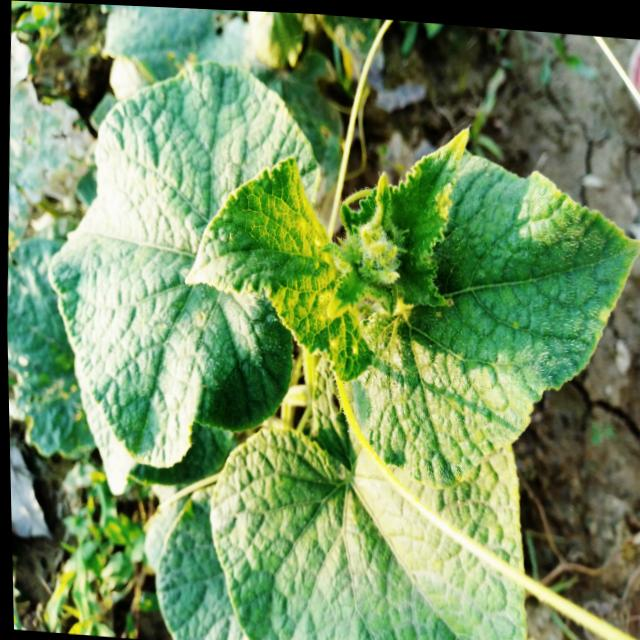Fresh-Leaf: (43, 60, 320, 467), (347, 147, 640, 488), (184, 154, 371, 385)
